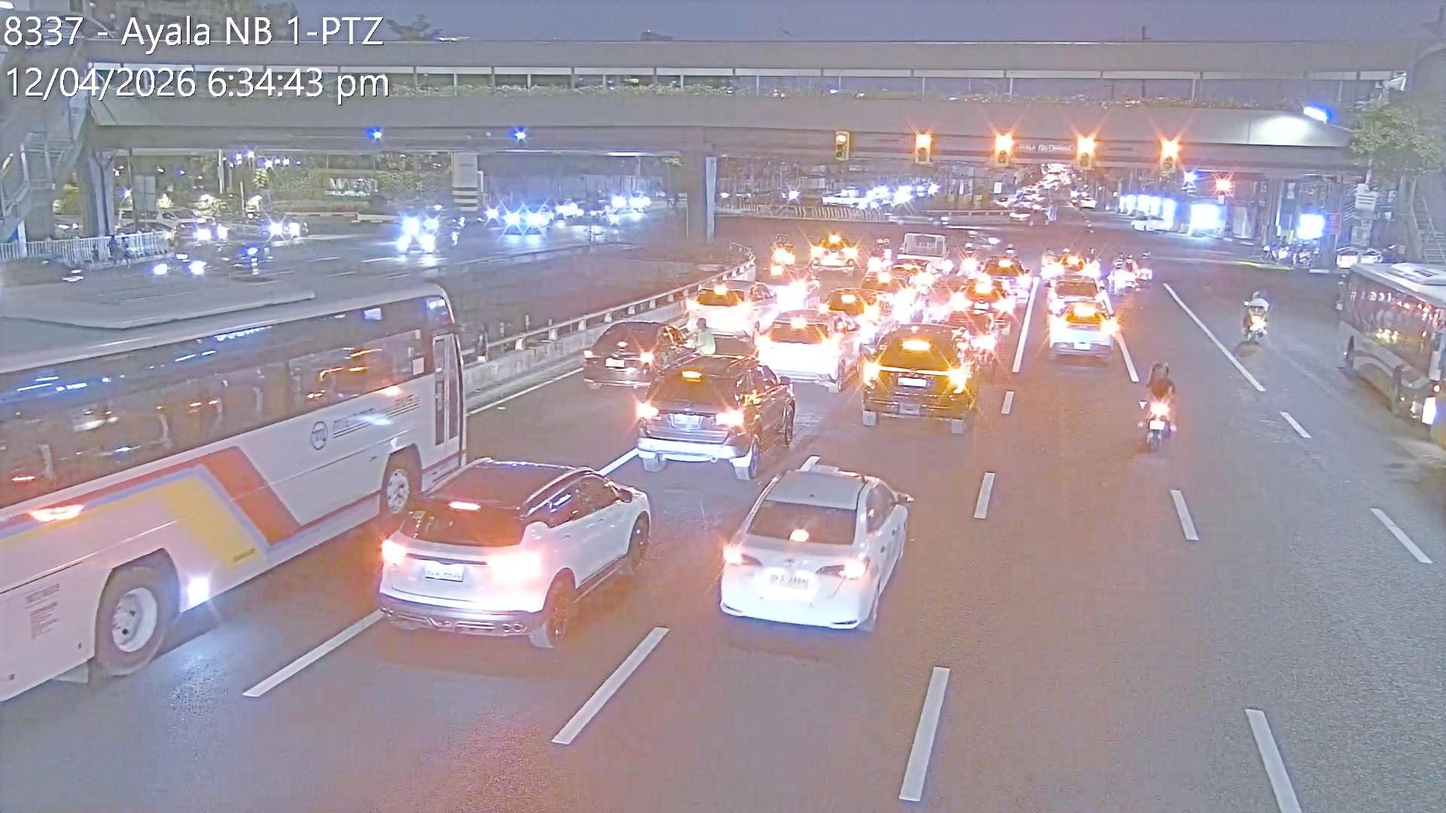Car: (374, 457, 647, 647), (710, 462, 906, 635), (641, 354, 796, 477), (855, 322, 981, 430), (753, 309, 859, 391), (584, 318, 692, 391), (935, 306, 1006, 377), (1046, 298, 1118, 363), (685, 282, 767, 338), (818, 286, 886, 341), (957, 277, 1014, 325), (178, 240, 254, 276), (977, 255, 1033, 303), (1045, 275, 1106, 318), (808, 235, 862, 279), (111, 219, 175, 252), (227, 213, 293, 245)
Motor: (1138, 381, 1176, 449), (1239, 292, 1268, 341), (772, 229, 796, 270), (1107, 250, 1124, 293), (958, 242, 978, 278), (1125, 250, 1138, 293), (1140, 250, 1153, 289), (876, 236, 893, 258), (1088, 244, 1101, 272)
